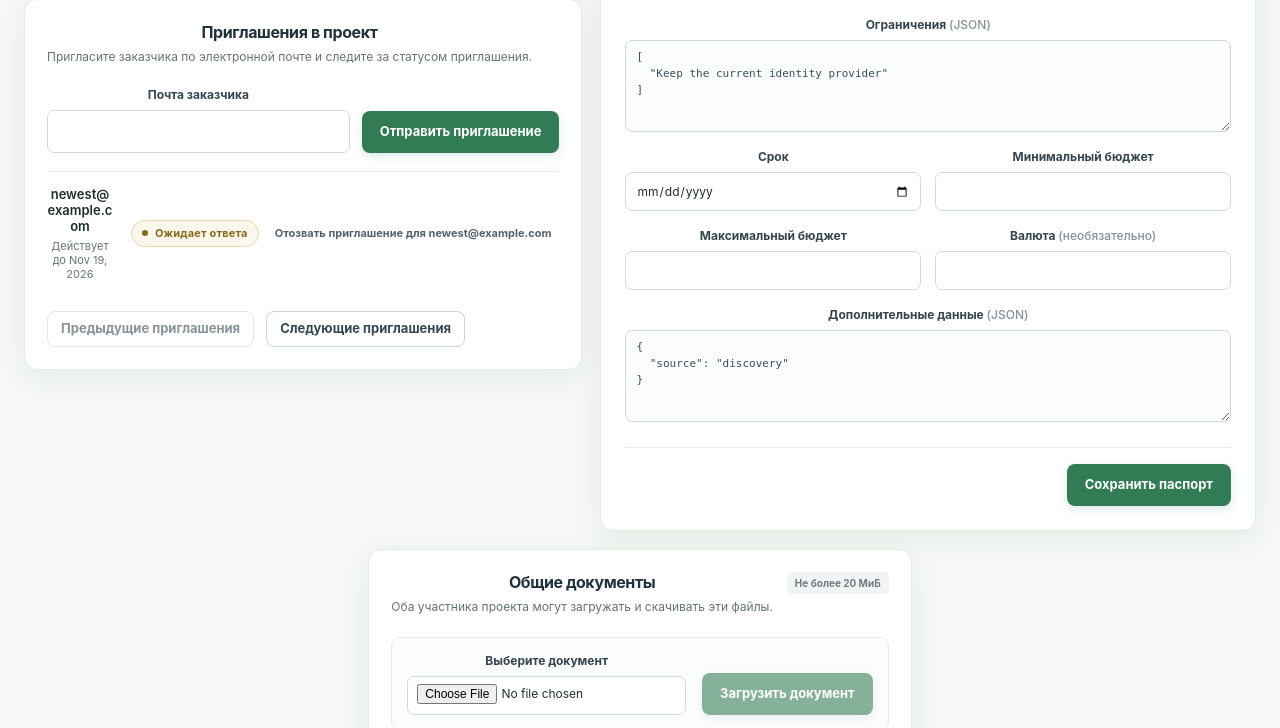
executor can reach and revoke an older invitation on the next page
(page scrolled)
Expected: the text "newest@example.com" is shown, top-left (47, 186), bottom-right (113, 234)
Click the button "Следующие приглашения": {"x": 366, "y": 329} top-left (266, 311), bottom-right (465, 347)
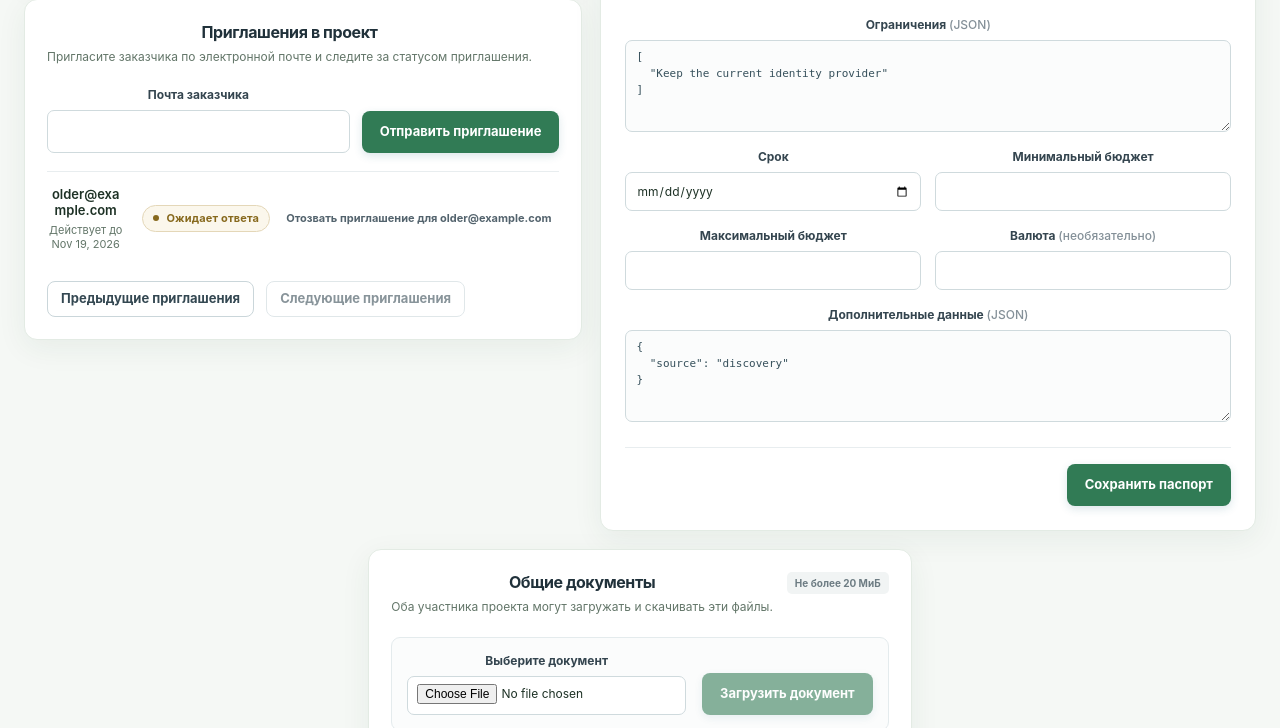
Result: the text "older@example.com" is shown at top-left (47, 186), bottom-right (124, 218)
Click the button "Отозвать приглашение для older@example.com": {"x": 419, "y": 218} top-left (278, 202), bottom-right (560, 234)
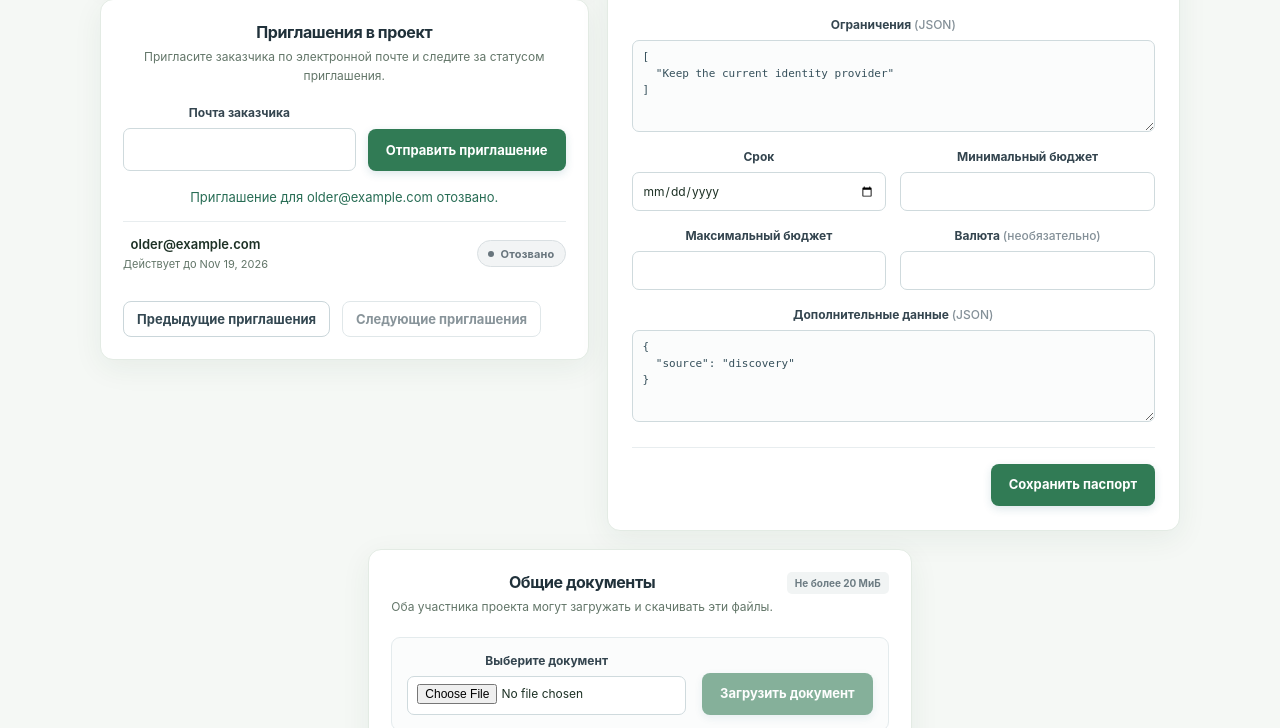
Result: the text "Приглашение для older@example.com отозвано." is shown at top-left (190, 189), bottom-right (498, 205)
Result: the text "Отозвано" is shown at top-left (477, 240), bottom-right (566, 267)
